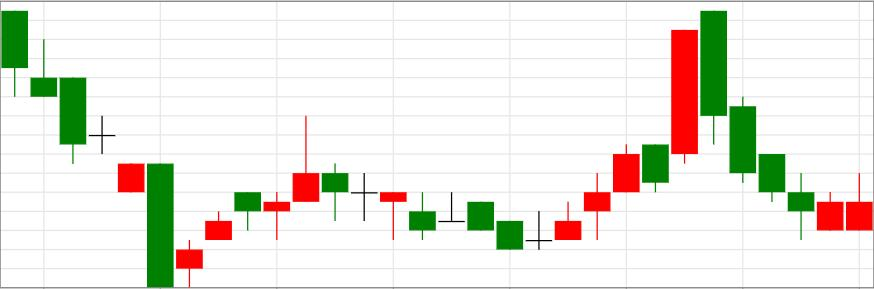shooting_star_fall: (147, 115, 320, 288)
three_black_crows_fall: (525, 10, 786, 250)
